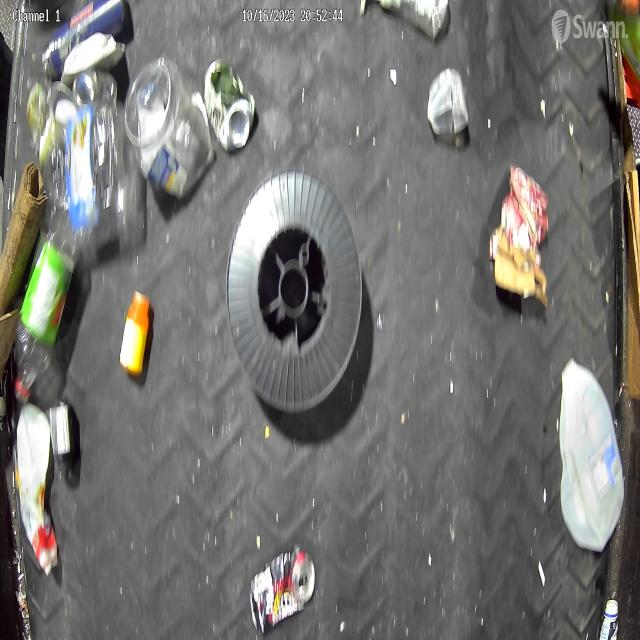can: (249, 541, 317, 634), (204, 56, 256, 153)
milk_jug: (560, 359, 626, 553)
plastic_bottle: (12, 216, 78, 403)
